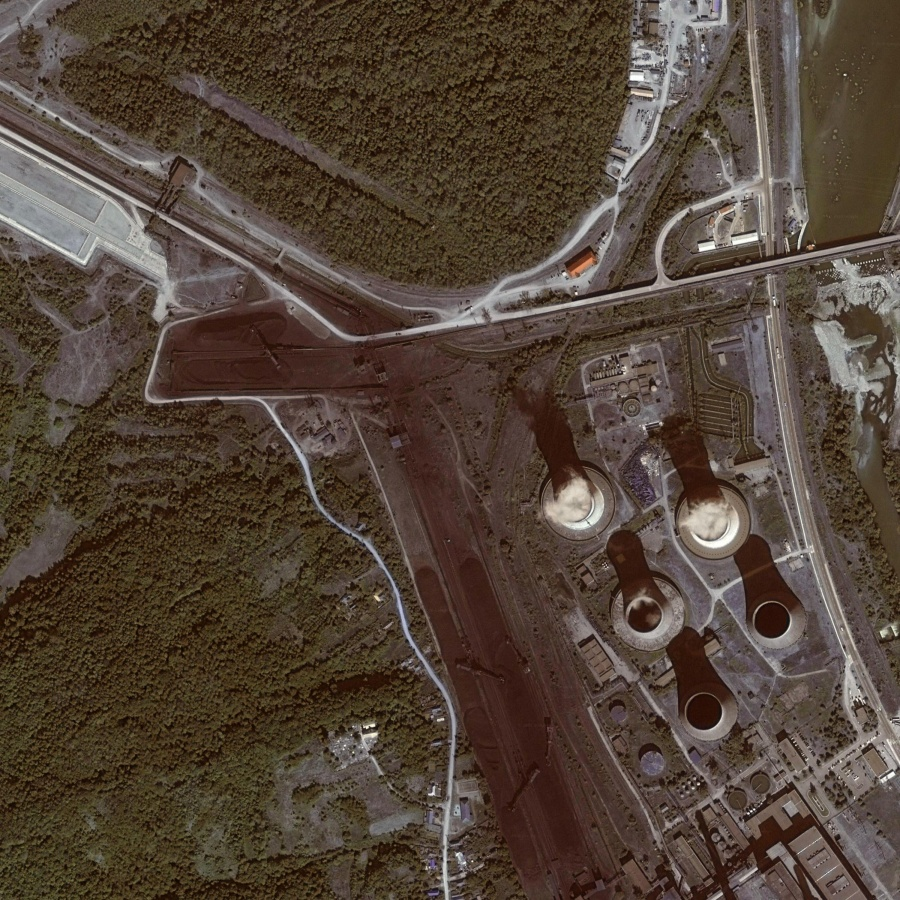PowerPlant: (379, 343, 819, 886)
